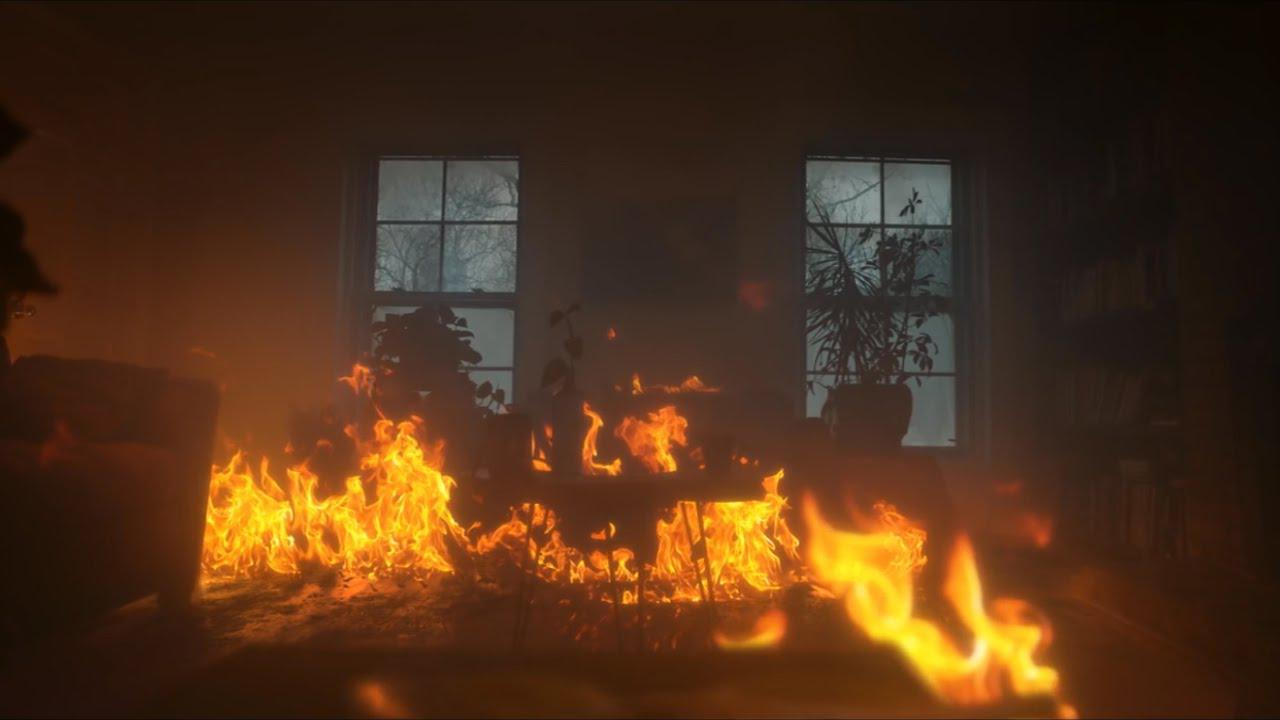fire: (174, 339, 1098, 713)
